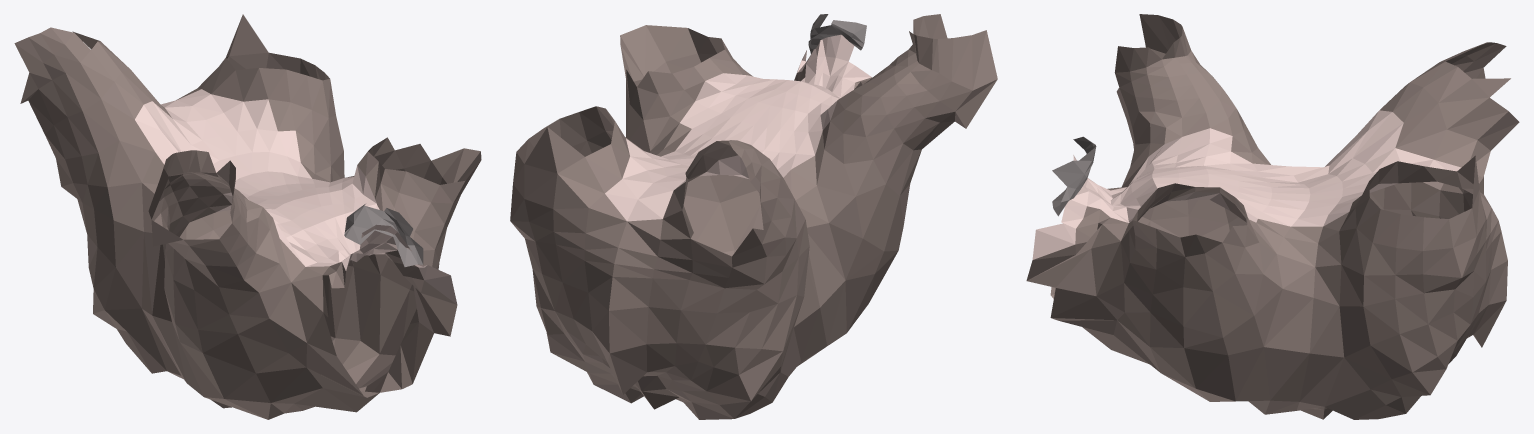
File: Sloth_Collider.fbx
3 renders of one model, left to right at view 1: azimuth 30°, elevation 25°; view 2: azimuth 150°, elevation 25°; view 3: azimuth 270°, elevation 25°, orthographic. The views are drawn at different scales.
Visible parts, largest first — view 1: SlothLP; view 2: SlothLP; view 3: SlothLP.
Part boxes in pixels (x1,y1,x2,y2): SlothLP: (14,14,481,419); SlothLP: (510,14,997,419); SlothLP: (1026,14,1519,419).
Size of the model in its own units: 55.85 by 52.38 by 71.71.
